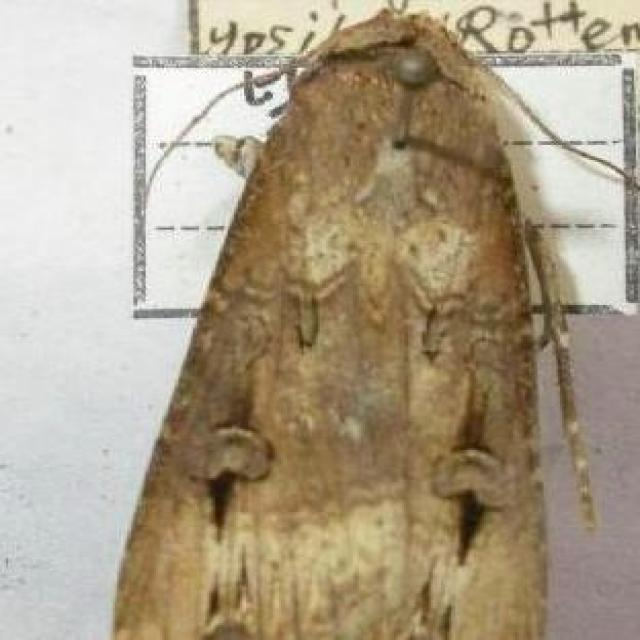black cutworm: (102, 16, 619, 640)
